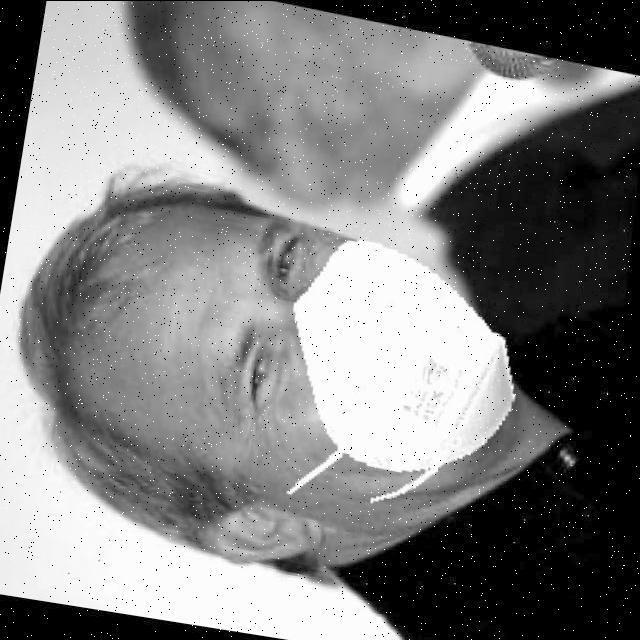mask: (304, 262, 518, 457)
no_gloves: (11, 186, 178, 496)
